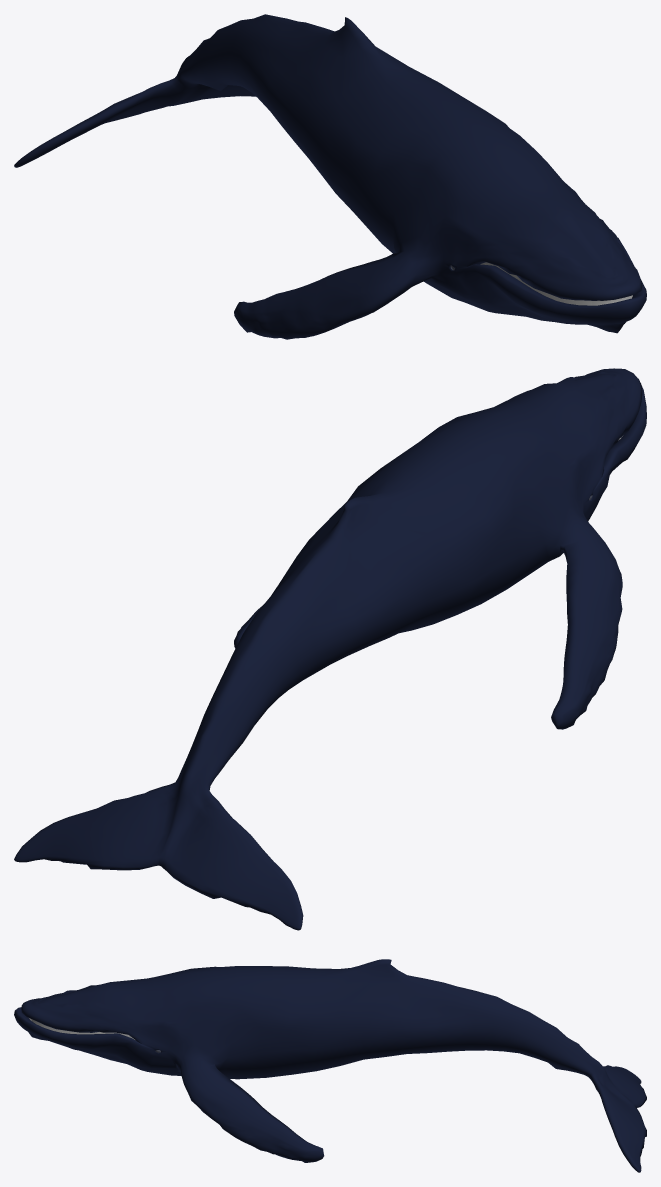
File: whale_animation07.obj
The picture shows the model from 3 angles, top to bottom: view 1: azimuth 30°, elevation 25°; view 2: azimuth 150°, elevation 25°; view 3: azimuth 270°, elevation 25°; orthographic projection. The views are drawn at different scales.
Parts seen in each view (by area): view 1: Whale, Barbs; view 2: Whale; view 3: Whale.
Boxes of the visible parts, left/top/right/bottom form: Whale: left=14, top=14, right=646, bottom=339; Barbs: left=480, top=262, right=632, bottom=305; Whale: left=14, top=368, right=646, bottom=930; Whale: left=14, top=959, right=646, bottom=1172.
Size of the model in its own units: 7.26 by 5.26 by 17.96.
